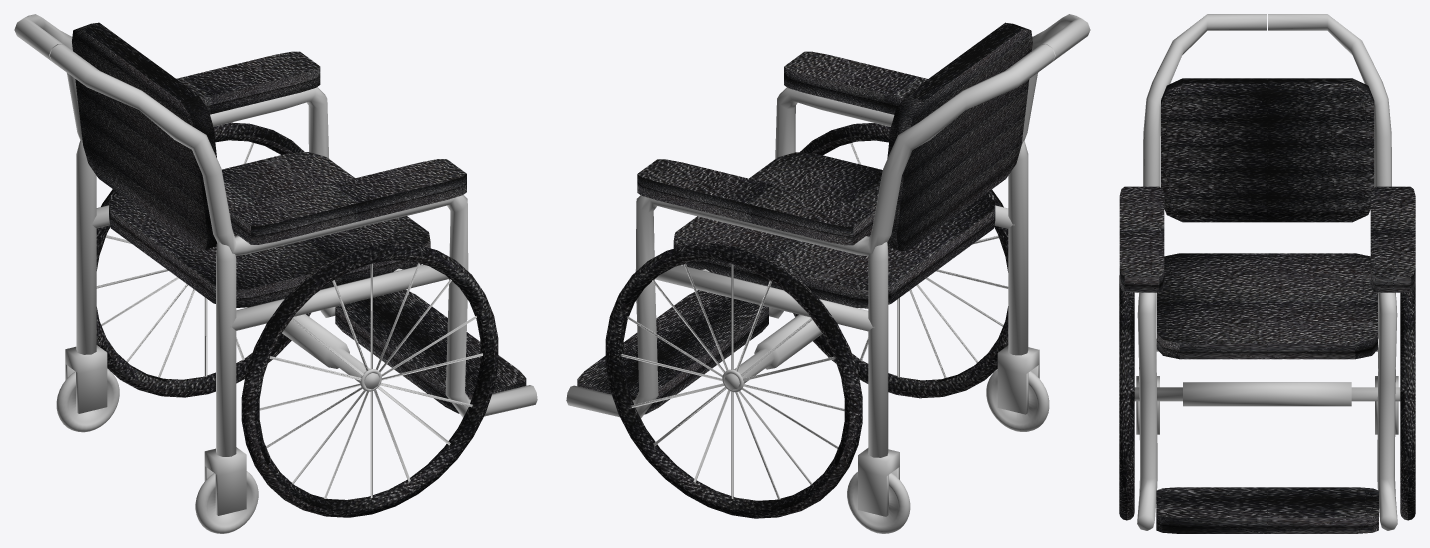
File: Wheelchair.fbx
The picture shows the model from 3 angles, left to right: view 1: azimuth 30°, elevation 25°; view 2: azimuth 150°, elevation 25°; view 3: azimuth 270°, elevation 25°; orthographic projection. The views are drawn at different scales.
Parts seen in each view (by area): view 1: Seat, Frame, BigWheels, SmallWheels; view 2: Seat, Frame, BigWheels, SmallWheels; view 3: Seat, Frame, BigWheels.
Boxes of the visible parts, left/top/right/bottom form: Seat: left=72, top=22, right=526, bottom=413; Frame: left=14, top=14, right=537, bottom=515; BigWheels: left=96, top=122, right=498, bottom=517; SmallWheels: left=56, top=369, right=258, bottom=533; Seat: left=577, top=22, right=1032, bottom=414; Frame: left=566, top=14, right=1090, bottom=516; BigWheels: left=605, top=123, right=1008, bottom=518; SmallWheels: left=847, top=369, right=1049, bottom=533; Seat: left=1119, top=78, right=1415, bottom=533; Frame: left=1134, top=14, right=1400, bottom=530; BigWheels: left=1119, top=275, right=1415, bottom=520.
Size of the model in its own units: 695 by 739 by 498.
